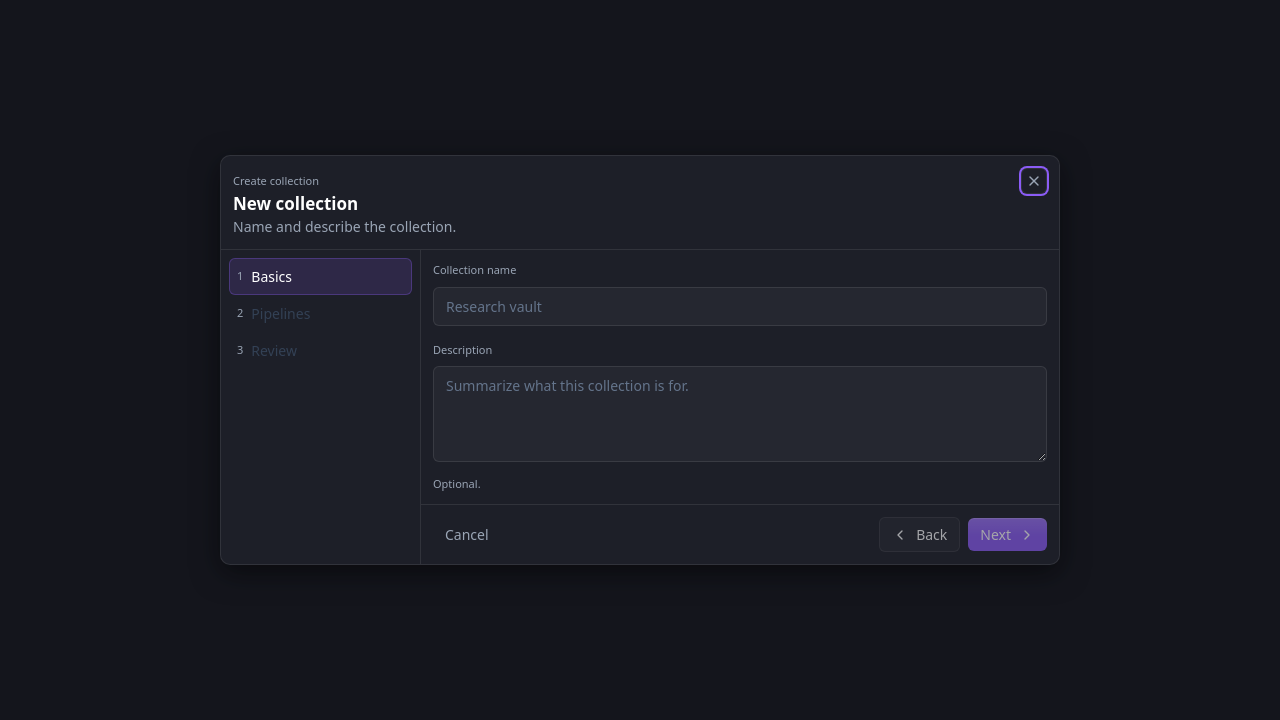
Test: CreateCollectionWizard › blocks both Next and the step list until the collection is named
The image size is (1280, 720).
Expected: the button "Next" is disabled, 968,518 -> 1047,551
Expected: the button "2 Pipelines" is disabled, 229,295 -> 412,332
Type "Collection" into the field with placeholder "Research vault" at (740, 306), box 433,286 -> 1047,326
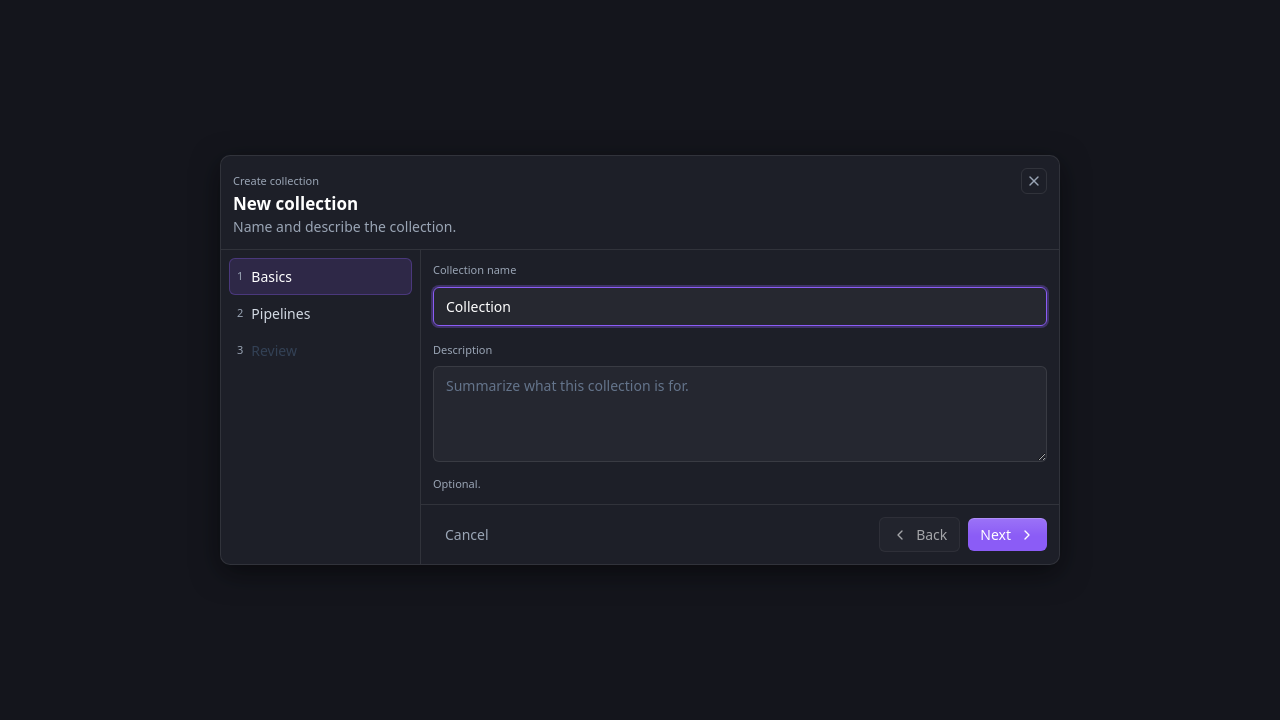
Now the button "Next" is enabled, box 968,518 -> 1047,551
Now the button "2 Pipelines" is enabled, box 229,295 -> 412,332
